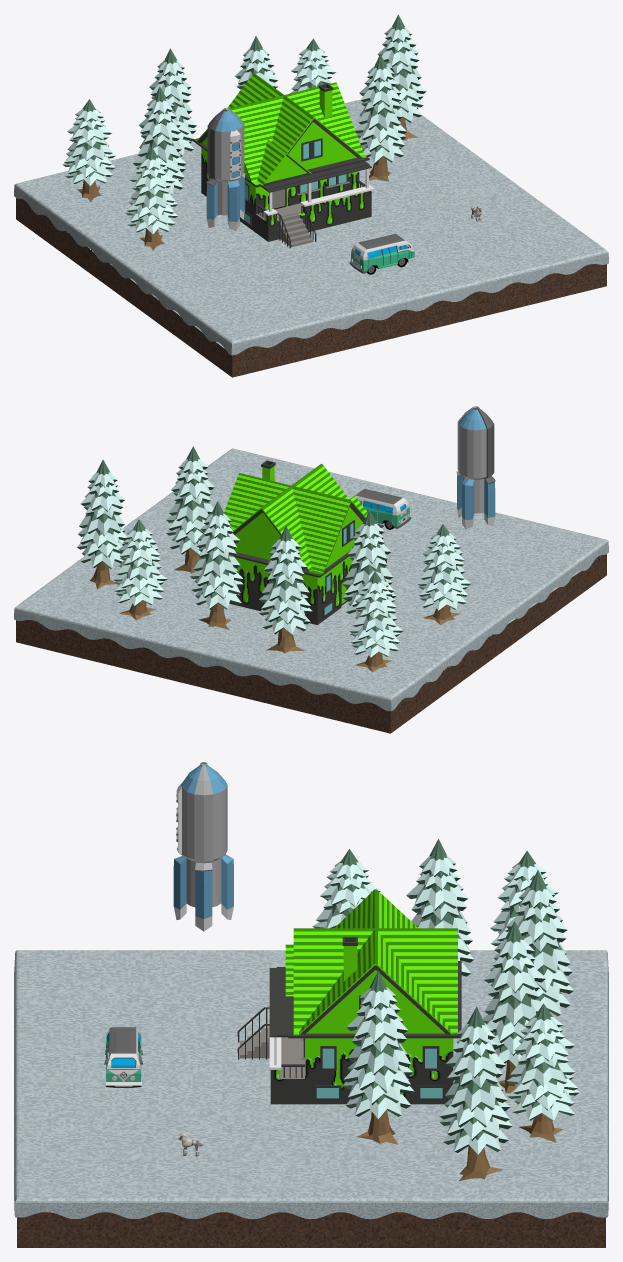
3 views of the same model, one above another, from view 1: azimuth 30°, elevation 25°; view 2: azimuth 150°, elevation 25°; view 3: azimuth 270°, elevation 25° (orthographic). The views are drawn at different scales.
Parts seen in each view (by area): view 1: Cube.003, Cube.754, OBJRANDOM_ROCKETSHIP, VEHICLES_VAN; view 2: Cube.003, Cube.754, OBJRANDOM_ROCKETSHIP, VEHICLES_VAN; view 3: Cube.003, Cube.754, OBJRANDOM_ROCKETSHIP, VEHICLES_VAN.
Boxes of the visible parts, <box> form: Cube.003: <box>14,14,608,377</box>; Cube.754: <box>193,73,374,248</box>; OBJRANDOM_ROCKETSHIP: <box>206,108,245,231</box>; VEHICLES_VAN: <box>349,234,415,274</box>; Cube.003: <box>14,446,608,733</box>; Cube.754: <box>224,460,386,624</box>; OBJRANDOM_ROCKETSHIP: <box>456,406,495,529</box>; VEHICLES_VAN: <box>352,489,410,529</box>; Cube.003: <box>14,839,608,1247</box>; Cube.754: <box>237,889,461,1104</box>; OBJRANDOM_ROCKETSHIP: <box>173,762,233,931</box>; VEHICLES_VAN: <box>104,1027,142,1087</box>.
Bounding box in the file's own units: 4040 × 2252 × 4040.
32 materials, 4 textured.
